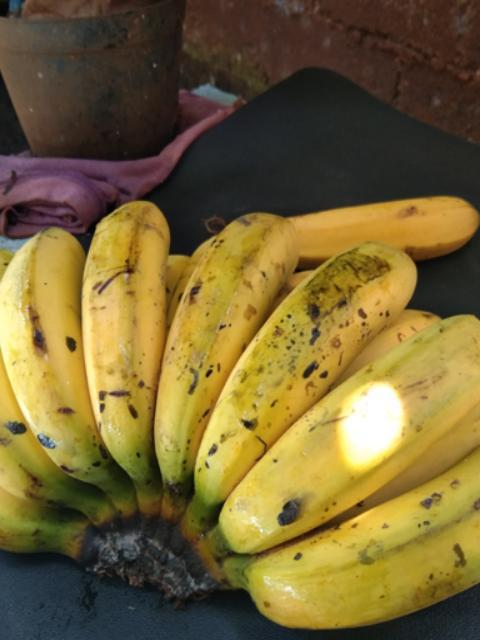freshripe: (277, 188, 466, 252)
ripe: (183, 232, 418, 524), (226, 314, 474, 557), (149, 203, 305, 493), (247, 467, 479, 625), (0, 199, 116, 488), (71, 183, 181, 454)
